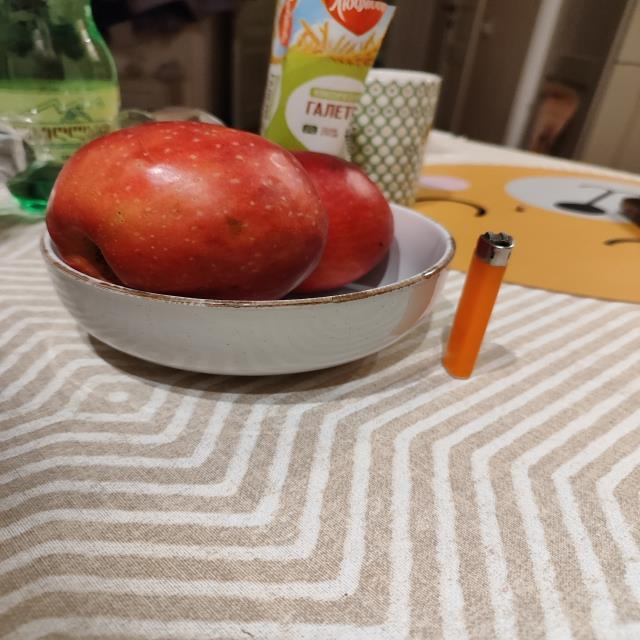lighter: (443, 232, 513, 378)
